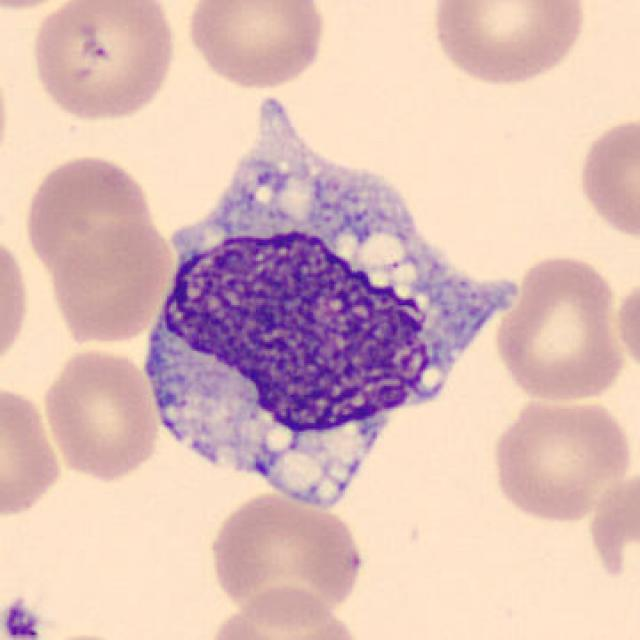Monocyte: (128, 88, 528, 515)
Platelets: (0, 597, 46, 640)
RBC: (204, 488, 368, 624), (491, 250, 629, 406), (487, 390, 635, 526), (23, 0, 181, 125), (21, 150, 162, 284), (44, 215, 178, 347), (39, 344, 164, 483), (427, 0, 592, 88), (181, 0, 331, 92), (0, 379, 66, 522), (572, 111, 640, 245), (205, 582, 362, 640), (0, 229, 34, 379), (611, 271, 640, 382), (0, 52, 12, 183), (25, 629, 144, 640), (0, 0, 89, 12)
